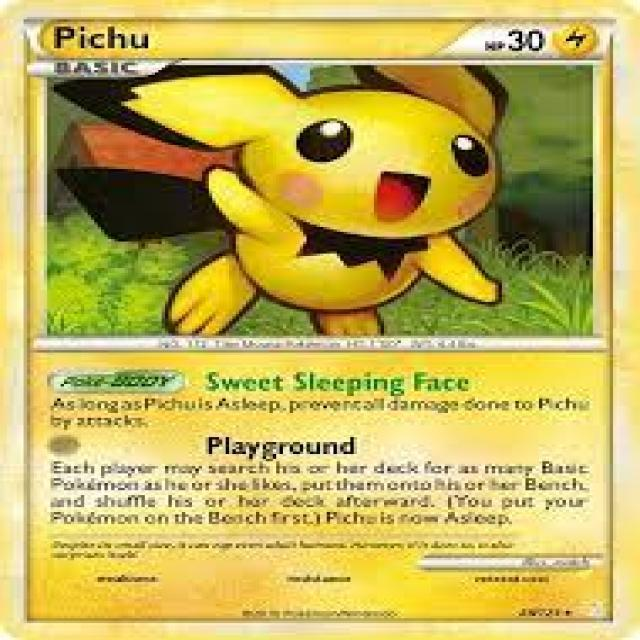pichu: (58, 71, 592, 340)
